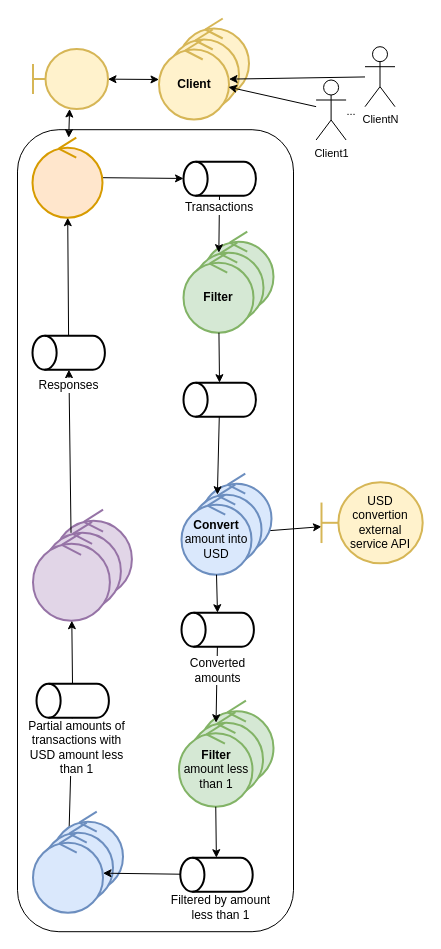
Some shapes in this 441 by 949 pixel diagram are drawn without their labels. The centre of each missing label's shape, as x and y in pixels:
"Filtered by Wire or ACH and period A" belongs at (219,399).
"Gateway" belongs at (67,177).
"GroupBy * Count" belongs at (68,872).
"Join results By client" belongs at (71,576).
"Socket TCP/IP" belongs at (70,79).
